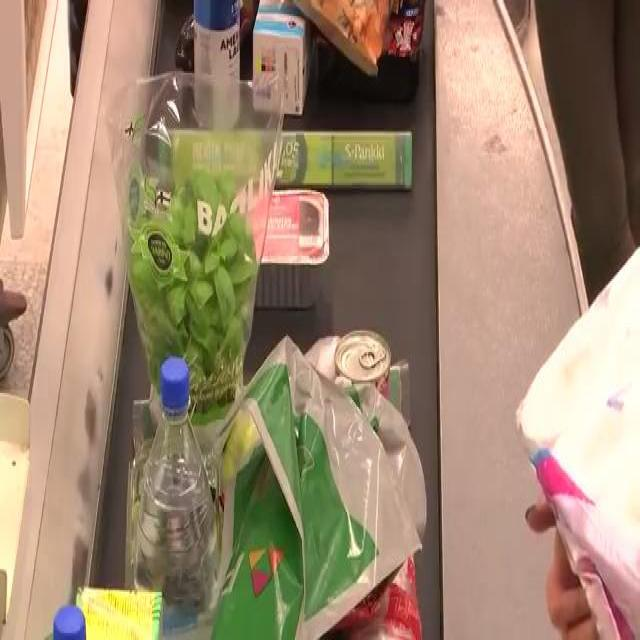beverage: (134, 364, 220, 640), (192, 1, 245, 123)
food-box: (177, 178, 332, 318), (247, 0, 314, 121), (73, 563, 163, 640), (328, 326, 397, 422)
utility-box: (108, 77, 287, 430)
